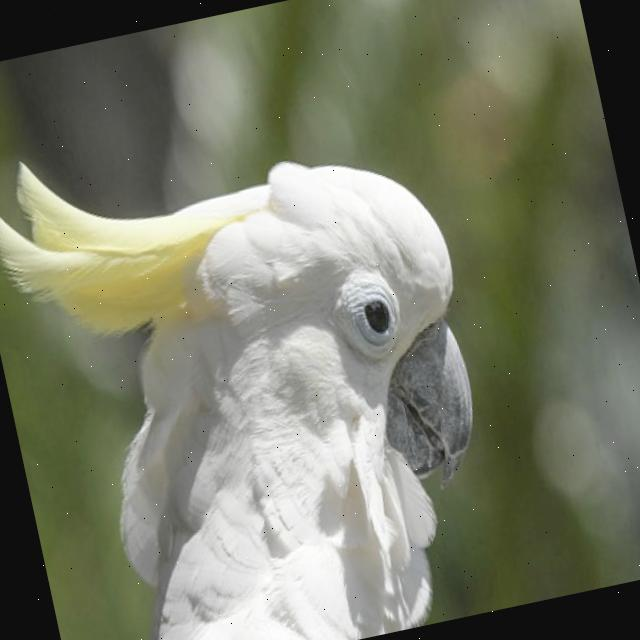Kakatua Putih: (0, 54, 538, 640)
